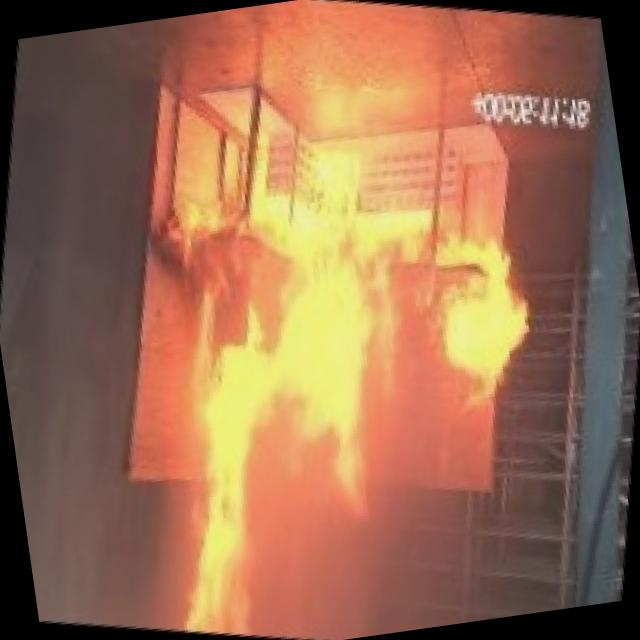fire: (51, 71, 616, 640)
